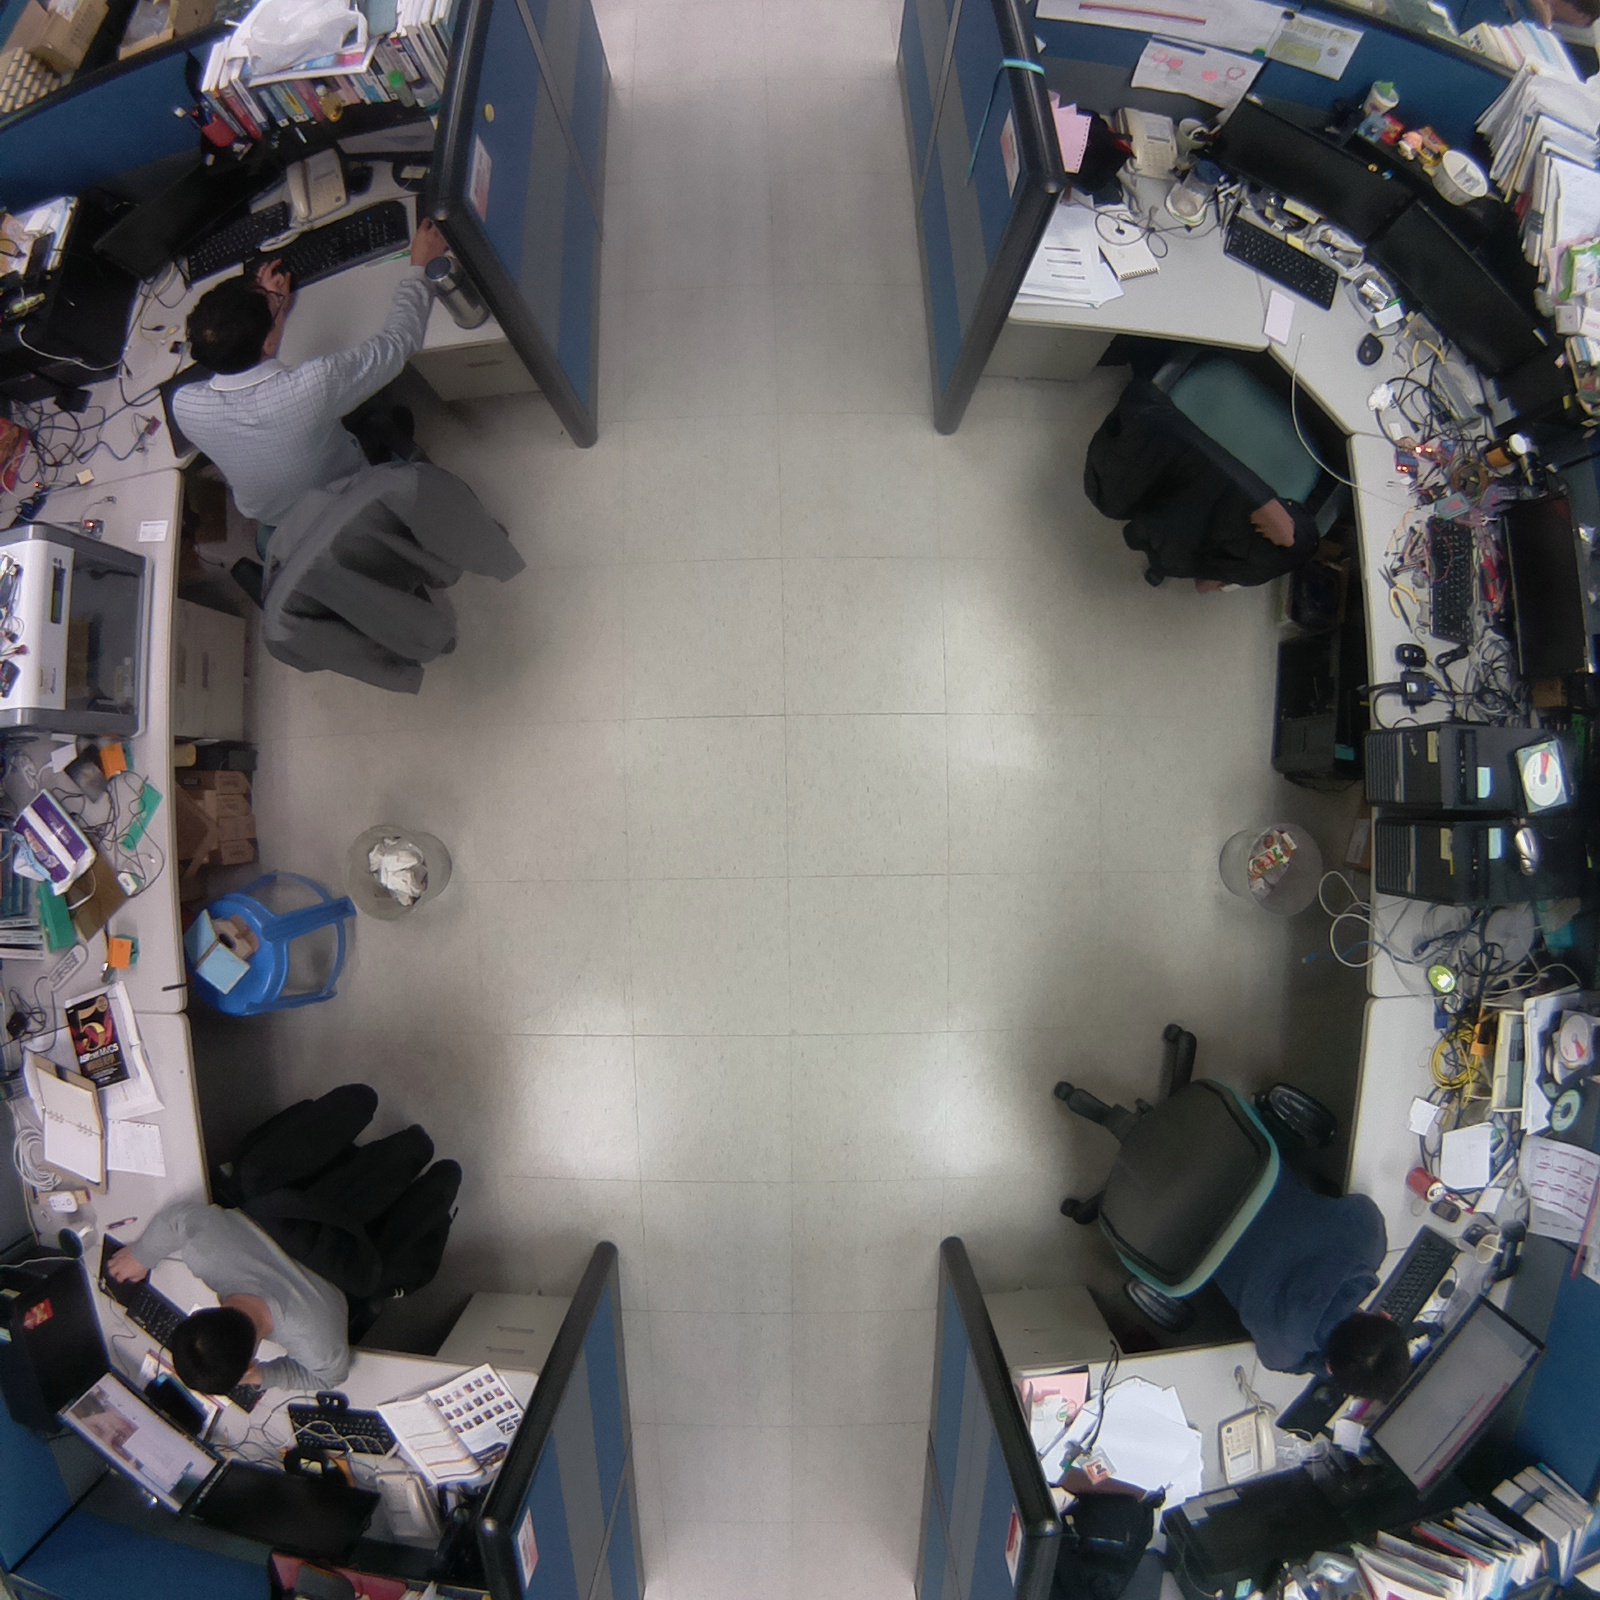chair: (1065, 324, 1370, 609)
head: (178, 268, 283, 376), (1319, 1304, 1415, 1406), (166, 1300, 259, 1404)
sitting: (159, 269, 553, 706), (1029, 999, 1422, 1411), (96, 1060, 491, 1411)
